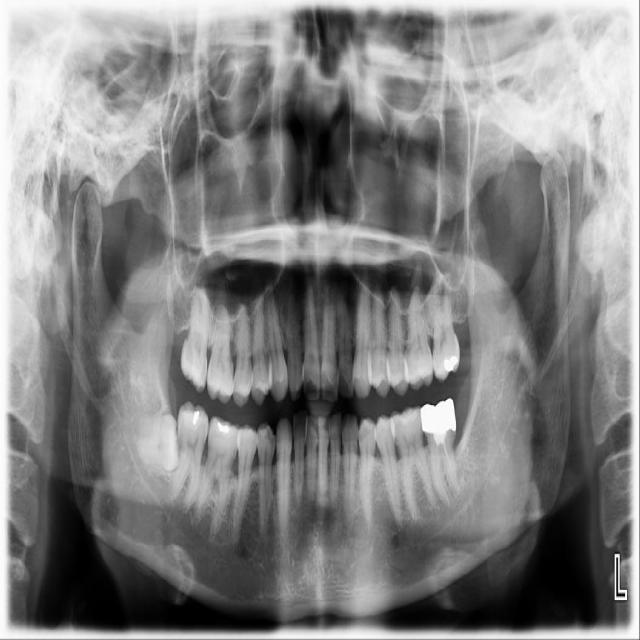52: (199, 413, 247, 463), (171, 399, 215, 450), (419, 397, 458, 446), (432, 332, 460, 384)
73: (428, 439, 462, 505), (568, 523, 576, 542)
BioHorizons Implant: (432, 259, 460, 384)
Blue Sky Bio Implant: (418, 398, 466, 505)
Caries: (179, 276, 212, 393)
Implant: (171, 400, 211, 505)
Keystone Dental Implant: (134, 413, 183, 475)
